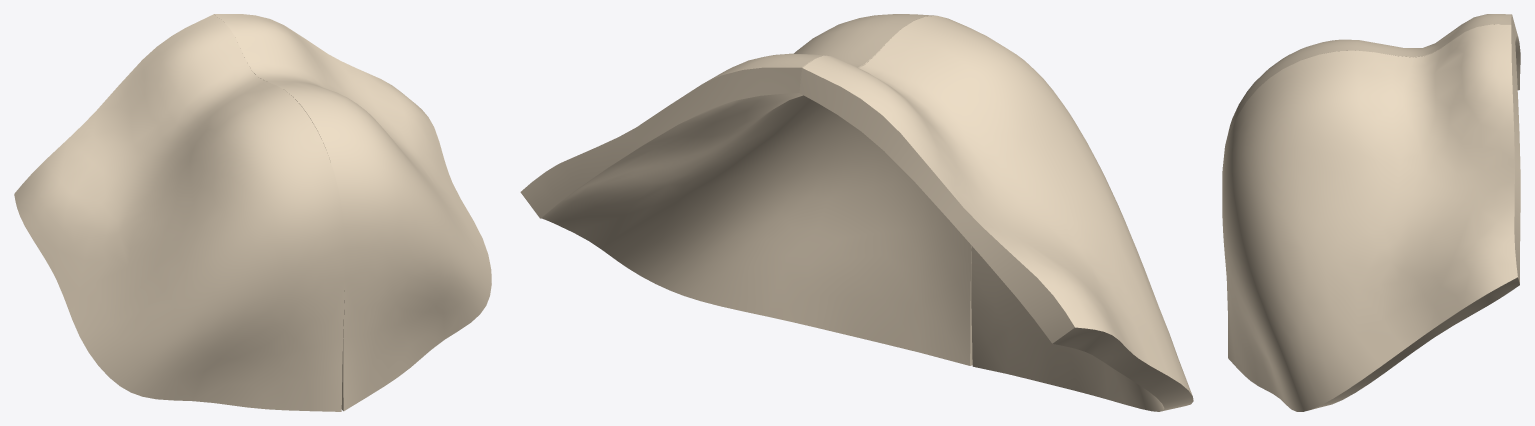
File: Mouth.gltf
The picture shows the model from 3 angles, left to right: view 1: azimuth 30°, elevation 25°; view 2: azimuth 150°, elevation 25°; view 3: azimuth 270°, elevation 25°; orthographic projection. The views are drawn at different scales.
Parts seen in each view (by area): view 1: Mouth; view 2: Mouth; view 3: Mouth.
Boxes of the visible parts, bbox=[...] form: Mouth: bbox=[14, 14, 491, 411]; Mouth: bbox=[520, 14, 1193, 411]; Mouth: bbox=[1222, 14, 1520, 411].
Size of the model in its own units: 0.0895 by 0.0635 by 0.0514.
